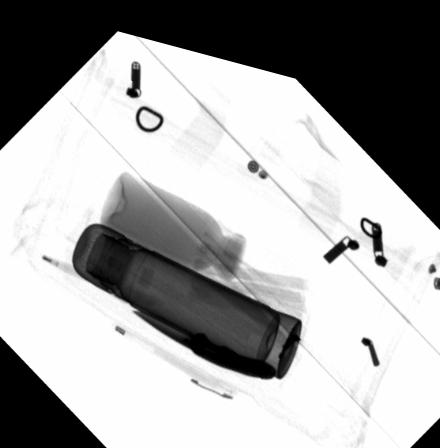Knife: (130, 301, 277, 365)
